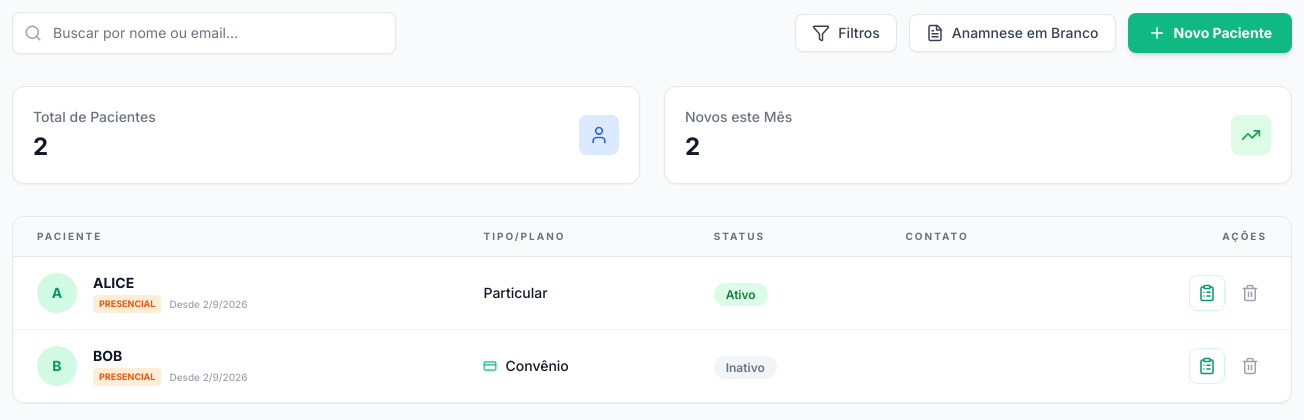
Test: Patients Page › should filter patients list
Expected: the text "Alice" is shown, [93, 274, 134, 291]
Step 1. Type "Alice" into the field with placeholder "Buscar por nome ou email..." → {"x": 204, "y": 33}, box [12, 12, 396, 54]
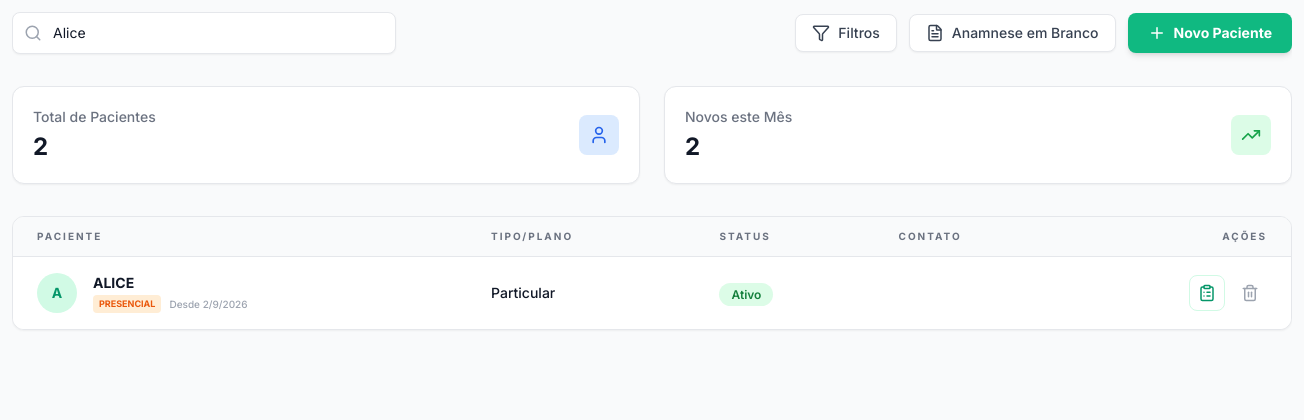
Expected: the text "Alice" is shown, [93, 274, 134, 291]
Now the text "Bob" is gone
